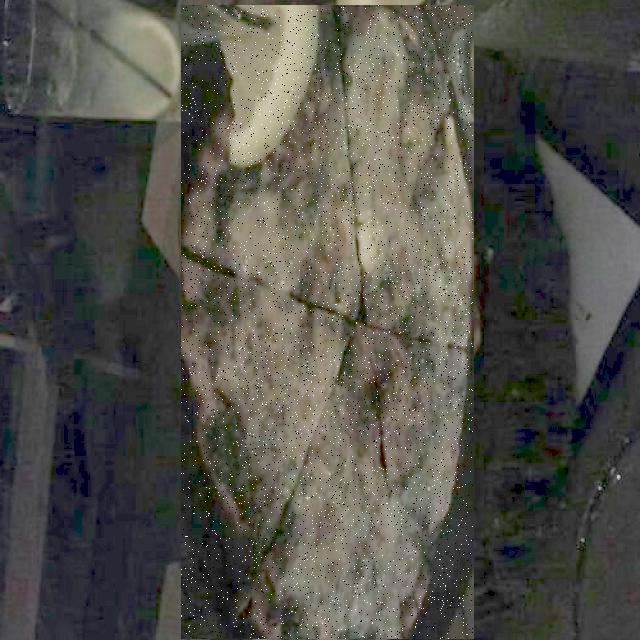Pizza: (182, 5, 473, 640)
